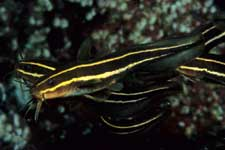gonzui: (30, 16, 225, 104)
